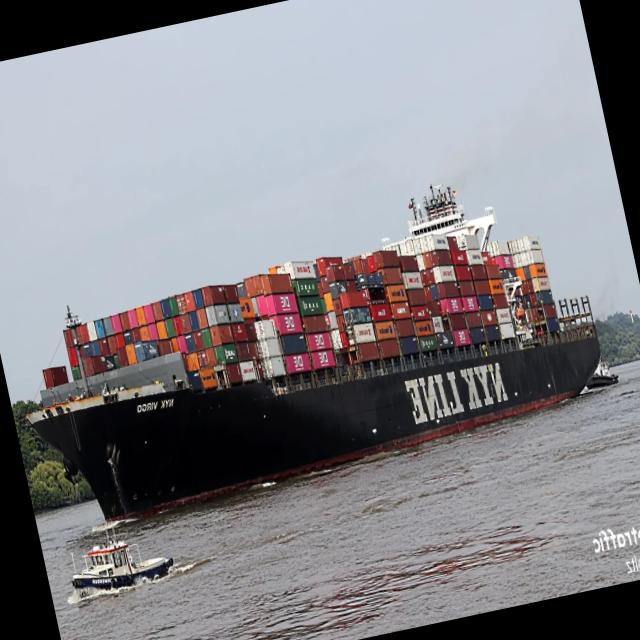Cargo: (30, 186, 600, 516)
Tug: (587, 356, 618, 387)
